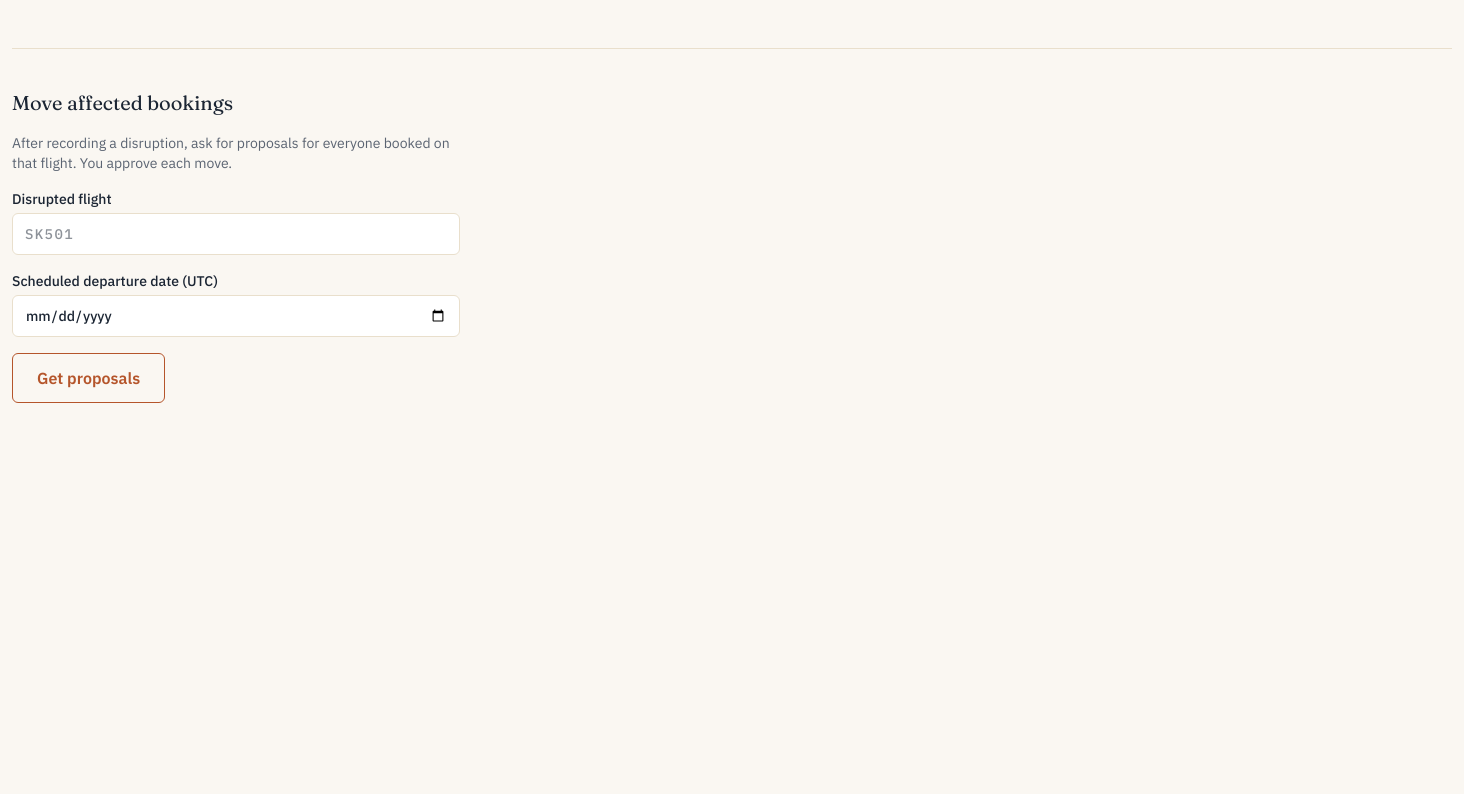
Test: ProposalsPanel groups (ADR-0043) › finds a booking by its reference and says when nothing matches
The width and height of the screenshot is (1464, 794).
Submit the form named "Get proposals", box [12,89,460,403]
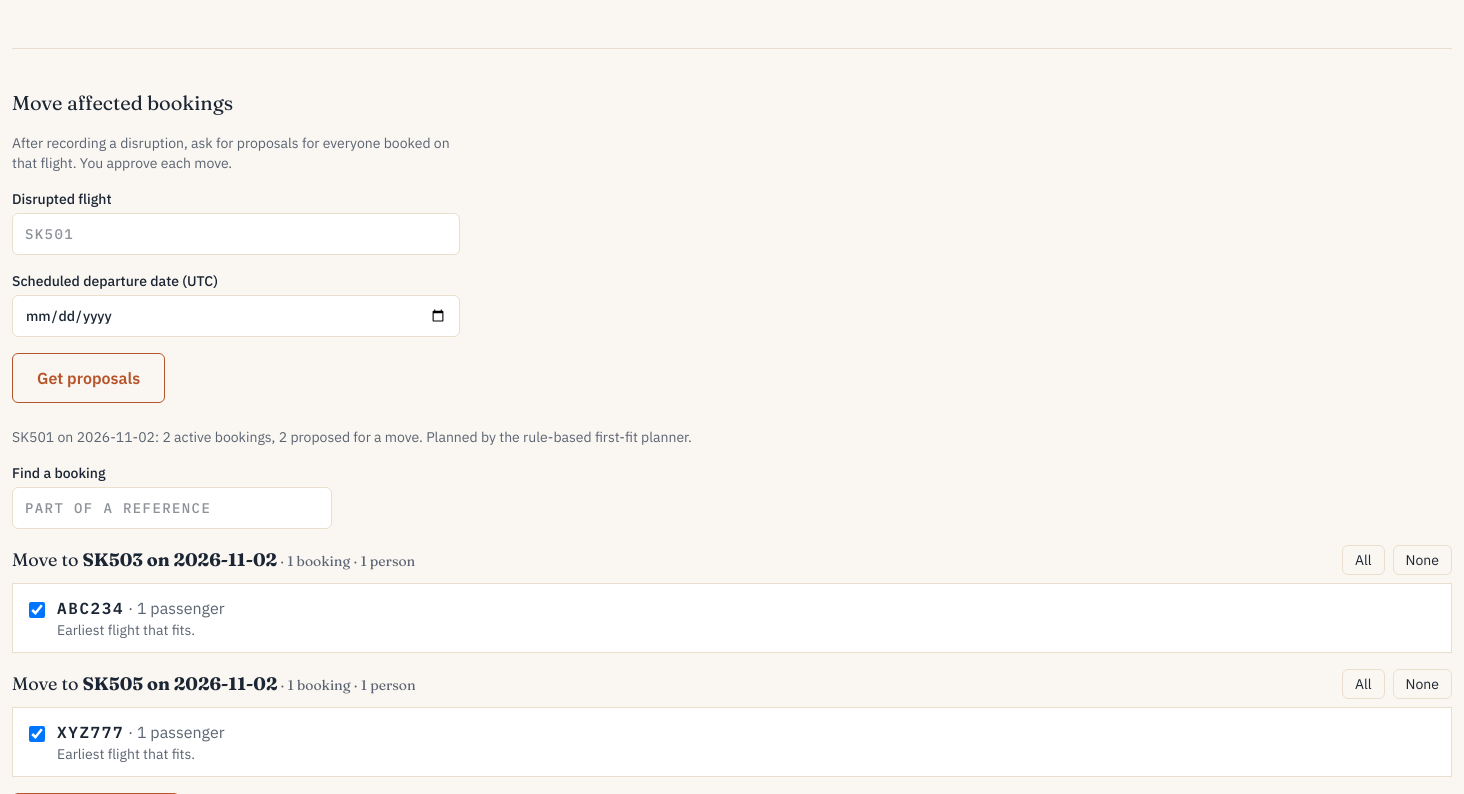
Expected: the text "ABC234" is shown, [57,598,124,618]
Type "xyz" into the field labelled "Find a booking" at x=172, y=508, box [12,487,332,529]
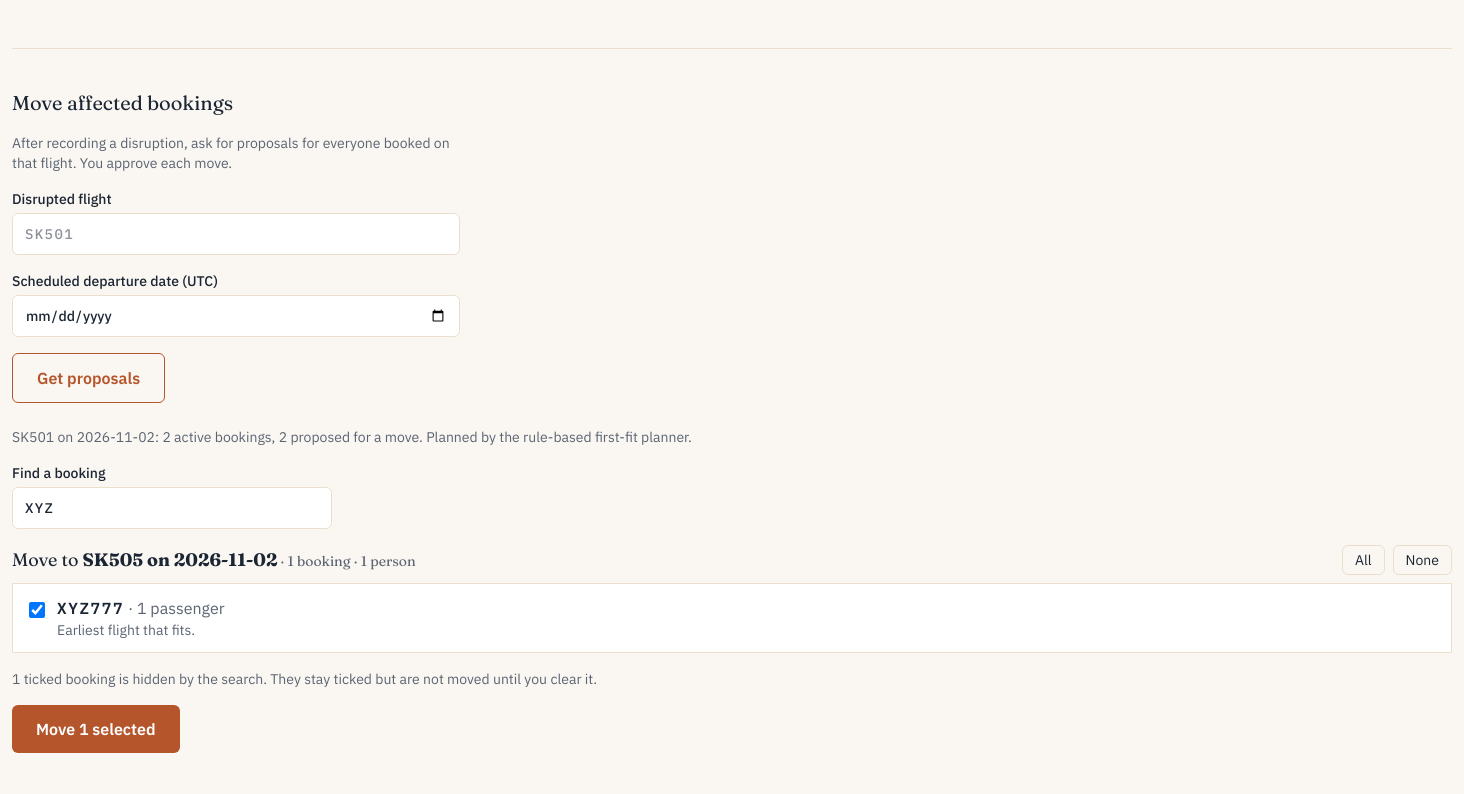
Expected: the text "XYZ777" is shown, [57,598,124,618]
Expected: the text "ABC234" is gone
Replace the text in the field labelled "Find a booking" with "nothing like this" at x=172, y=508, box [12,487,332,529]
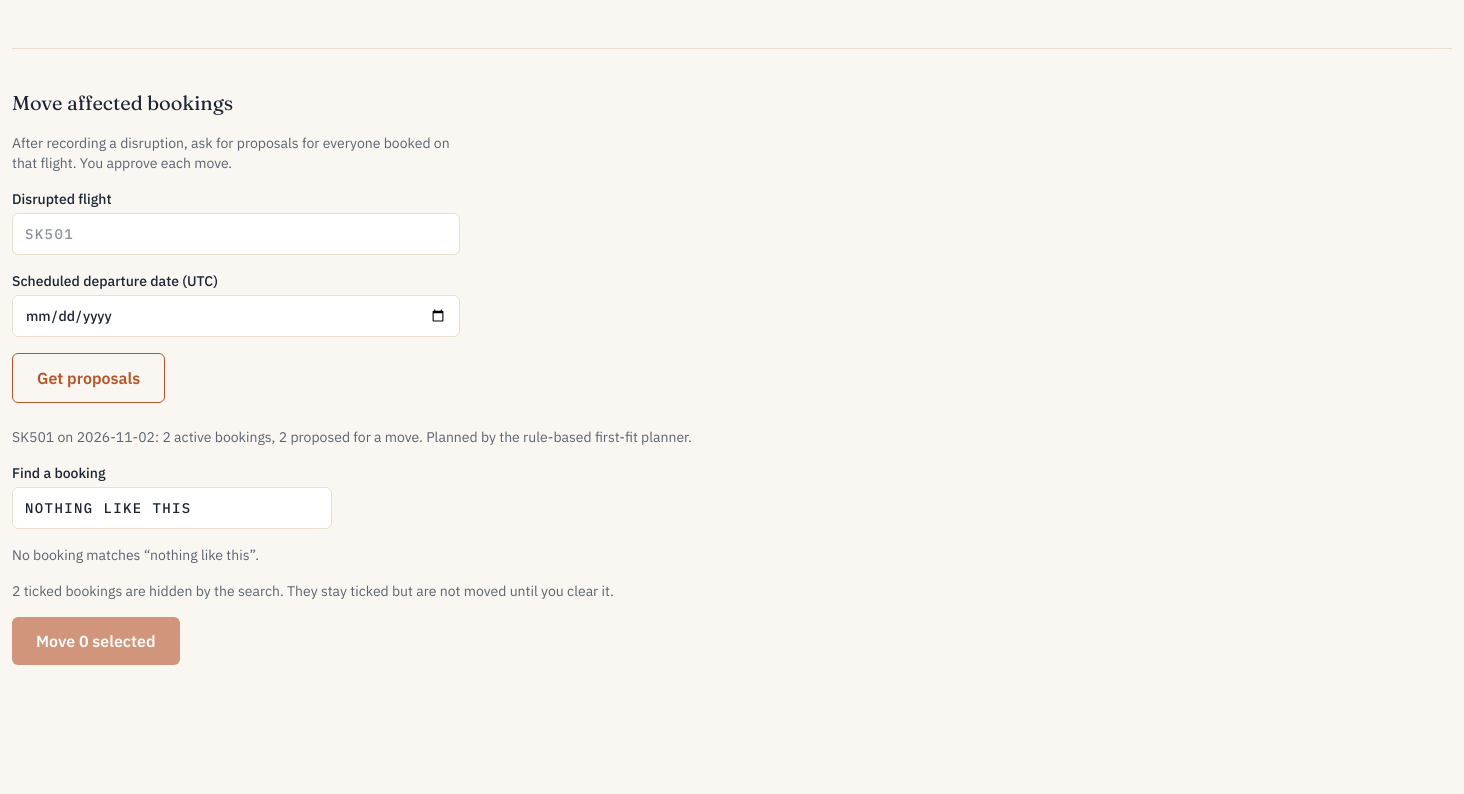
Expected: the text "No booking matches “nothing like this”." is shown, [12,546,259,564]
